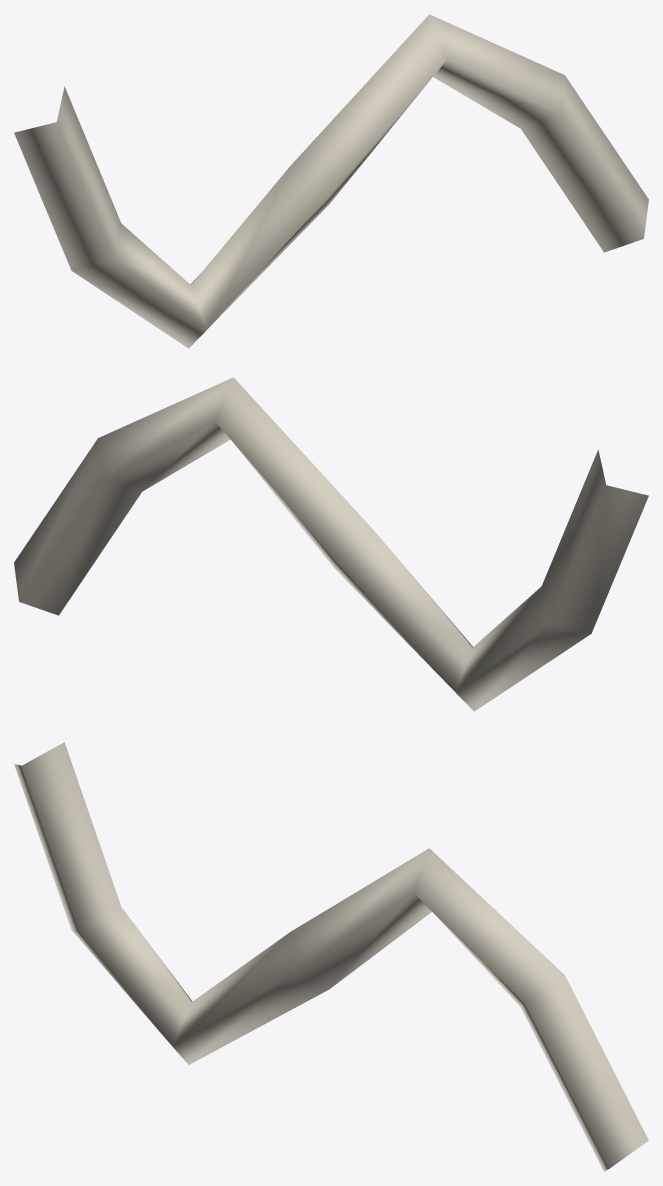
The model's file is ribbon.glb.
The picture shows the model from 3 angles, top to bottom: view 1: azimuth 30°, elevation 25°; view 2: azimuth 150°, elevation 25°; view 3: azimuth 330°, elevation 25°; orthographic projection.
Visible parts, largest first — view 1: ribbon; view 2: ribbon; view 3: ribbon.
Boxes of the visible parts, <box> form: ribbon: <box>14,14,648,348</box>; ribbon: <box>14,377,648,711</box>; ribbon: <box>14,742,648,1171</box>.
Bounding box in the file's own units: 0.3795 × 0.1703 × 0.036.
